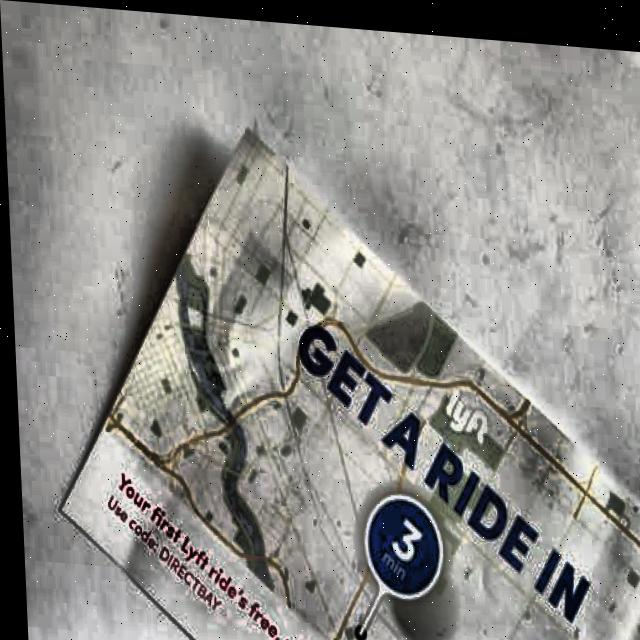paper: (41, 106, 640, 640)
